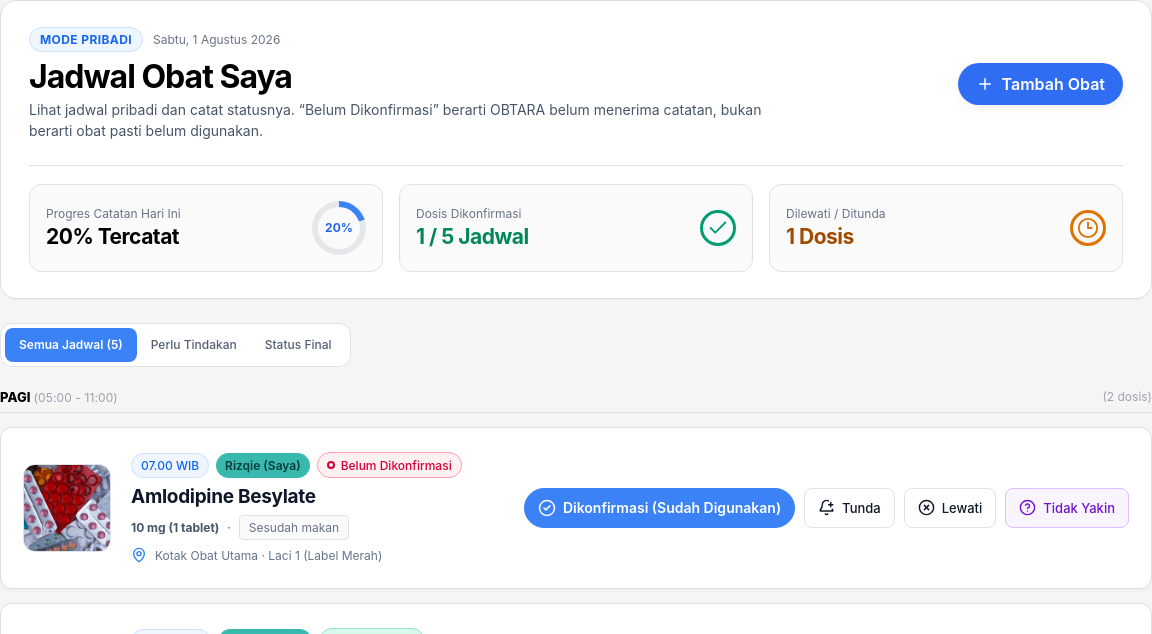
it: TodayPage › memfilter jadwal selesai
The width and height of the screenshot is (1152, 634).
Click the button "Status Final" at coordinates (298, 345), box [251, 328, 346, 362]
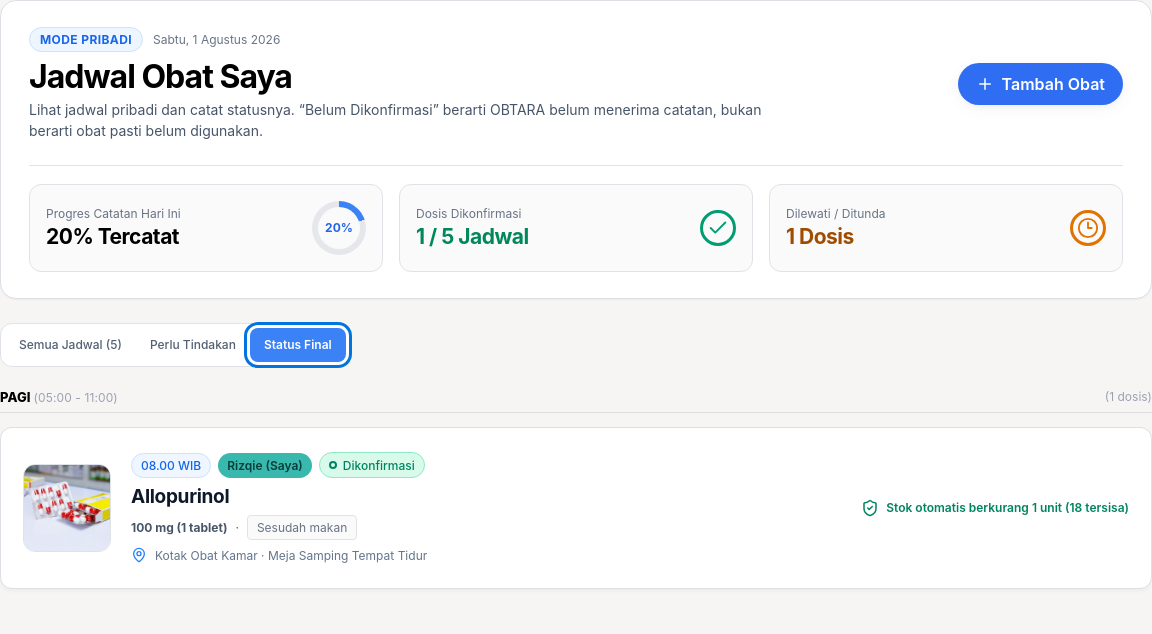
Expected: the button "Allopurinol" is shown, [131, 485, 229, 508]
Result: the button "Amlodipine Besylate" is gone
